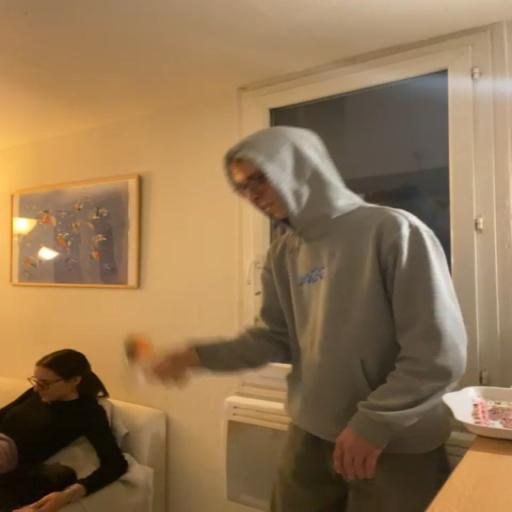kendama_ball: (124, 334, 154, 368)
